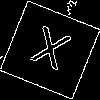X: (25, 25, 73, 81)
